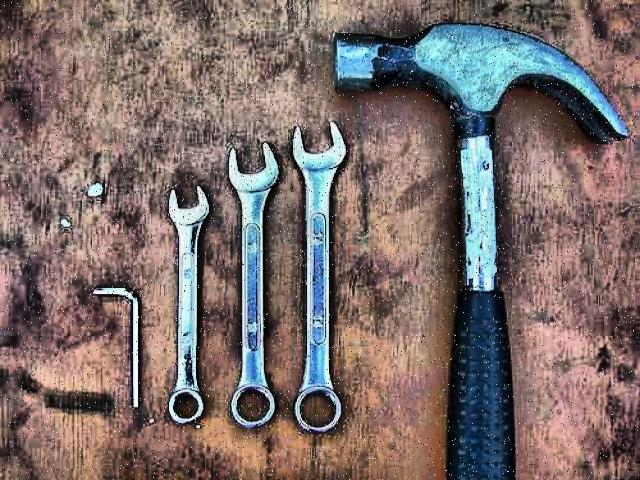Hammer: (335, 23, 629, 480)
Wrench: (292, 123, 346, 433), (229, 143, 279, 428), (169, 187, 209, 424)
